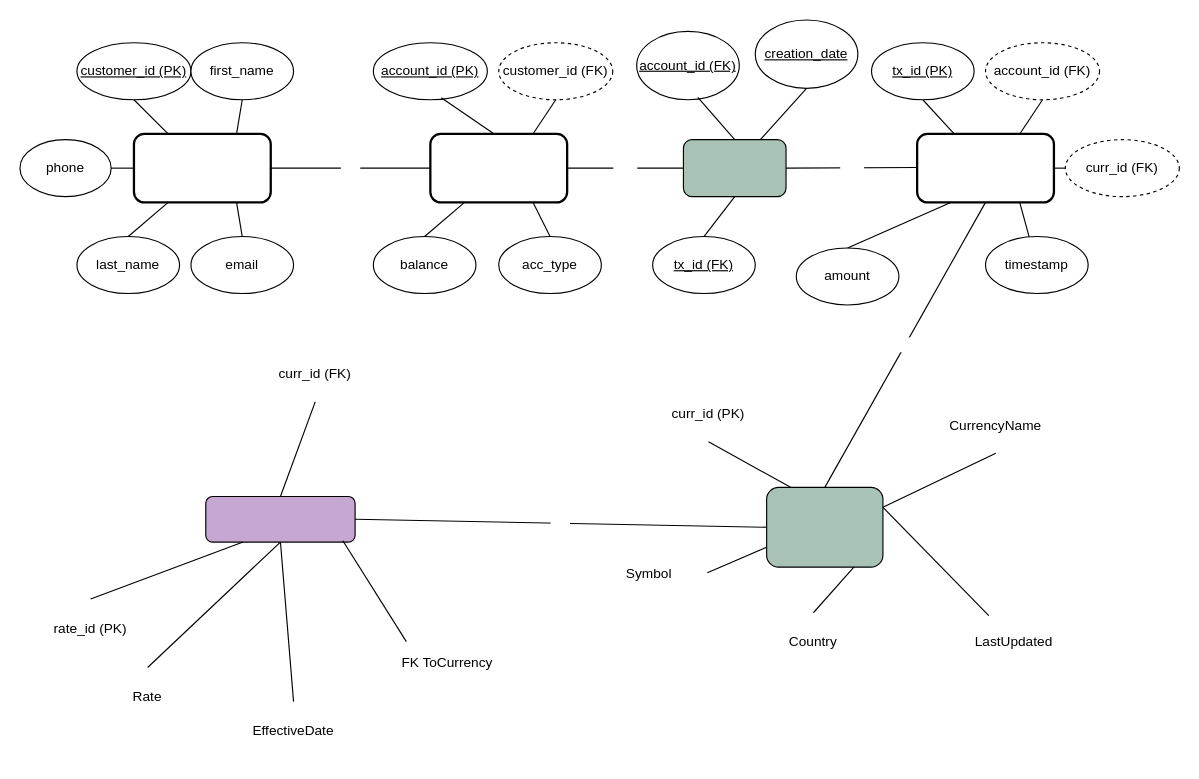
The diagram is 1199 pixels wide and 779 high, and some of its shapes have lost their labels. Each missing label, with the centre of its shape:
ACCOUNT: (498,167)
created_at: (734,168)
CURRENCY: (824,526)
CUSTOMER: (201,167)
EXCHANGE RATE: (280,518)
TRANSACTION: (984,167)
